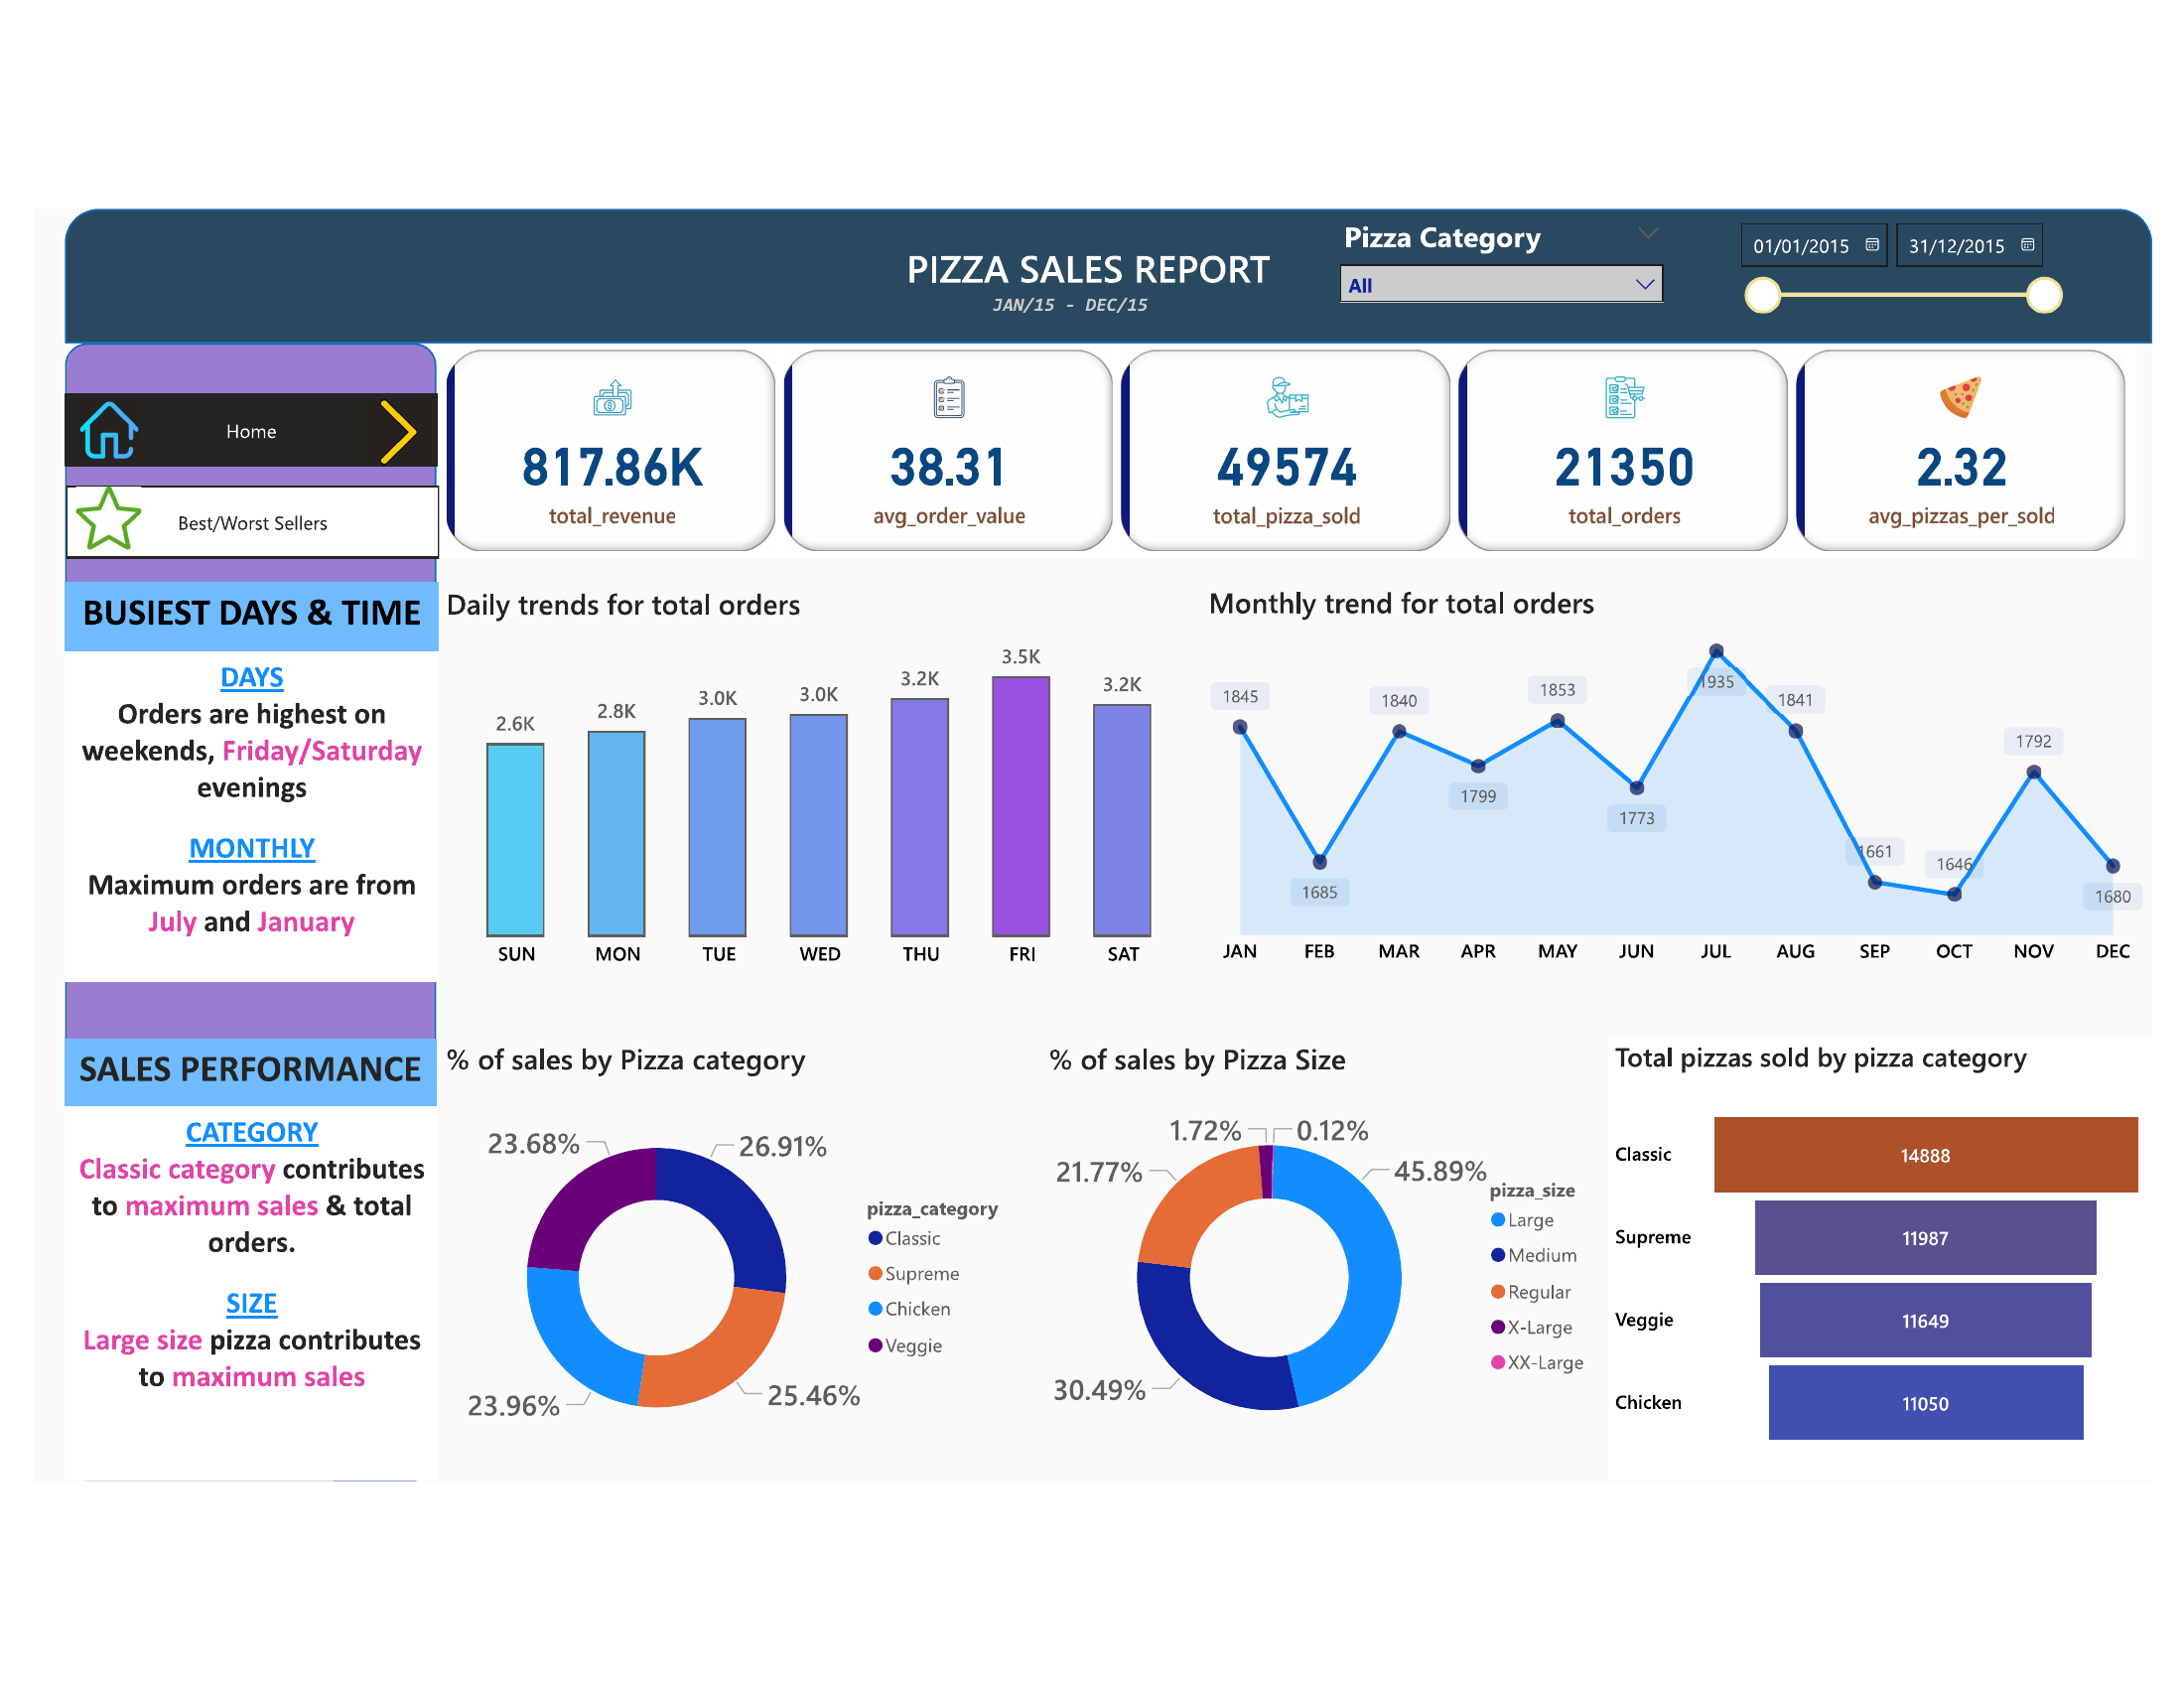

This screenshot's page, from the dashboard's own definition file:
{"tool":"powerbi","page":{"name":"Home","canvas":[1500,900],"ordinal":0},"visuals":[{"type":"cardVisual","fields":{"Data":["pizza_sales.total_revenue","pizza_sales.avg_order_value","pizza_sales.total_pizza_sold","pizza_sales.total_orders","pizza_sales.avg_pizzas_per_sold"]},"box":[287.1,95.2,1201.6,151.6],"z":0},{"type":"shape","box":[21.8,0,1478.2,94.5],"z":1000},{"type":"textbox","box":[612.7,18.3,277.5,49.3],"z":2000},{"type":"textbox","box":[674,53.2,141.6,41.6],"z":3000},{"type":"columnChart","title":"Daily trends for total orders","fields":{"Category":["pizza_sales.order_day"],"Y":["pizza_sales.total_orders"]},"box":[287.3,265.5,540,281.8],"z":4000},{"type":"areaChart","title":"Monthly trend for total orders","fields":{"Category":["pizza_sales.order_month"],"Y":["pizza_sales.total_orders"]},"box":[827.3,263.6,672.7,281.8],"z":5000},{"type":"donutChart","title":"% of sales by Pizza category","fields":{"Category":["pizza_sales.pizza_category"],"Y":["pizza_sales.total_revenue"]},"box":[287.3,587.3,416.4,312.7],"z":6000},{"type":"donutChart","title":"% of sales by Pizza Size","fields":{"Category":["pizza_sales.pizza_size"],"Y":["pizza_sales.total_revenue"]},"box":[712.7,587.3,401.8,312.7],"z":7000},{"type":"funnel","title":"Total pizzas sold by pizza category","fields":{"Category":["pizza_sales.pizza_category"],"Y":["pizza_sales.total_pizza_sold"]},"box":[1114.5,587.3,385.5,312.7],"z":8000},{"type":"shape","box":[21.8,94.5,263.6,805.5],"z":9000},{"type":"textbox","box":[21.8,263.6,265.5,49.1],"z":10000},{"type":"textbox","box":[21.8,312.7,265.5,234.5],"z":11000},{"type":"textbox","box":[21.8,634.5,265.5,265.5],"z":12000},{"type":"textbox","box":[21.8,587.3,263.6,47.3],"z":13000},{"type":"slicer","fields":{"Values":["pizza_sales.pizza_category"]},"box":[914.5,0,249.1,89.1],"z":14000},{"type":"slicer","fields":{"Values":["pizza_sales.order_date"]},"box":[1196.1,0,249.4,89.6],"z":15000},{"type":"pageNavigator","box":[22.1,131.2,263.6,50.6],"z":16000},{"type":"pageNavigator","box":[23.4,196.1,263.6,50.6],"z":17000},{"type":"image","box":[229.9,128.6,55.8,57.1],"z":18000},{"type":"image","box":[23.4,131.2,59.7,50.6],"z":19000},{"type":"image","box":[22.1,190.9,61,55.8],"z":20000}]}

Visuals, with their boxes on the page's 1500x900 design canvas (x1, y1, x2, y2). These are canvas units, not pixel positions in the 2184x1688 screenshot, which may show the page scaled, cropped or inside an application window:
cardVisual - pizza_sales.total_revenue x pizza_sales.avg_order_value: crop(287, 95, 1489, 247)
shape: crop(22, 0, 1500, 94)
textbox: crop(613, 18, 890, 68)
textbox: crop(674, 53, 816, 95)
"Daily trends for total orders" columnChart: crop(287, 266, 827, 547)
"Monthly trend for total orders" areaChart: crop(827, 264, 1500, 545)
"% of sales by Pizza category" donutChart: crop(287, 587, 704, 900)
"% of sales by Pizza Size" donutChart: crop(713, 587, 1114, 900)
"Total pizzas sold by pizza category" funnel: crop(1114, 587, 1500, 900)
shape: crop(22, 94, 285, 900)
textbox: crop(22, 264, 287, 313)
textbox: crop(22, 313, 287, 547)
textbox: crop(22, 634, 287, 900)
textbox: crop(22, 587, 285, 635)
slicer - pizza_sales.pizza_category: crop(914, 0, 1164, 89)
slicer - pizza_sales.order_date: crop(1196, 0, 1446, 90)
pageNavigator: crop(22, 131, 286, 182)
pageNavigator: crop(23, 196, 287, 247)
image: crop(230, 129, 286, 186)
image: crop(23, 131, 83, 182)
image: crop(22, 191, 83, 247)
